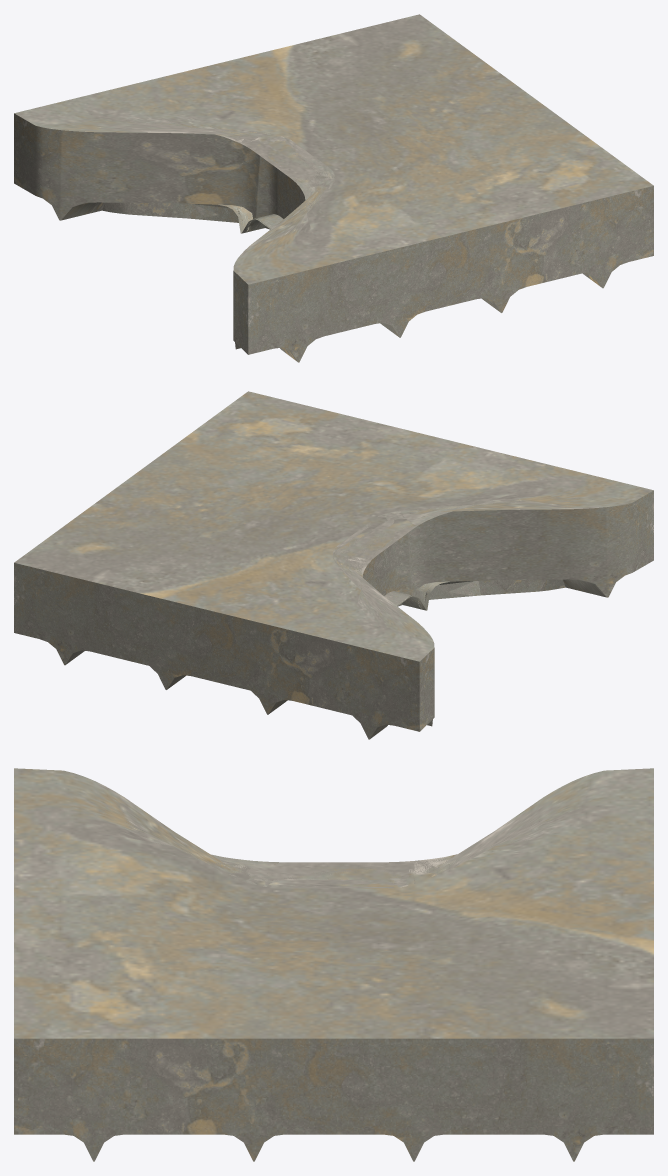
Rendered from SM_Corridor_Ceiling_Intersect.fbx.
3 renders of one model, top to bottom at view 1: azimuth 30°, elevation 25°; view 2: azimuth 150°, elevation 25°; view 3: azimuth 270°, elevation 25°, orthographic. The views are drawn at different scales.
Visible parts, largest first — view 1: SM_Corridor_Ceiling_Intersect_LOD0; view 2: SM_Corridor_Ceiling_Intersect_LOD0; view 3: SM_Corridor_Ceiling_Intersect_LOD0.
Boxes of the visible parts, box(x1,y1,x2,y2) form: SM_Corridor_Ceiling_Intersect_LOD0: box(14, 14, 653, 362); SM_Corridor_Ceiling_Intersect_LOD0: box(14, 391, 653, 739); SM_Corridor_Ceiling_Intersect_LOD0: box(14, 768, 653, 1161).
Bounding box in the file's own units: 400 × 400 × 84.98.
Materials: 1 (1 with a texture image).
